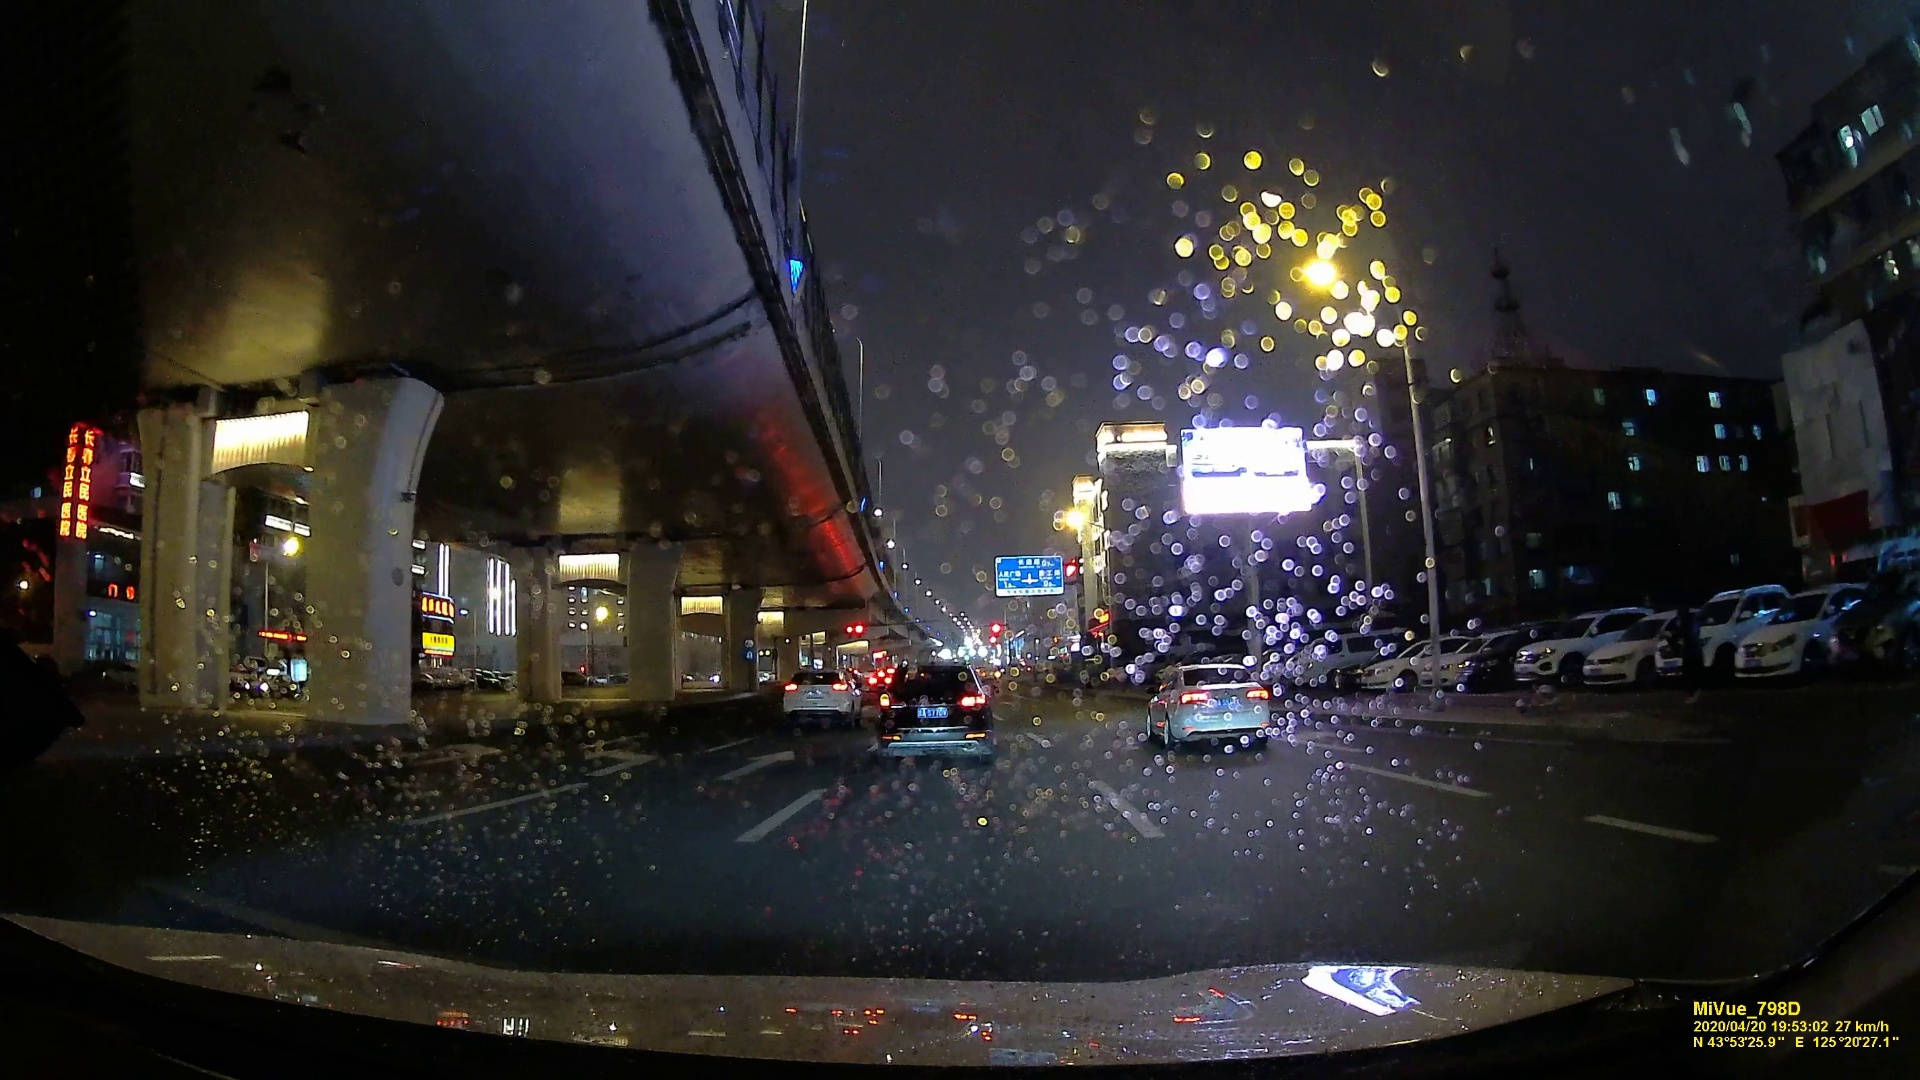traffic_sign: (993, 556, 1062, 595)
vehicle: (876, 659, 994, 760), (1145, 662, 1273, 750), (782, 666, 860, 727)
